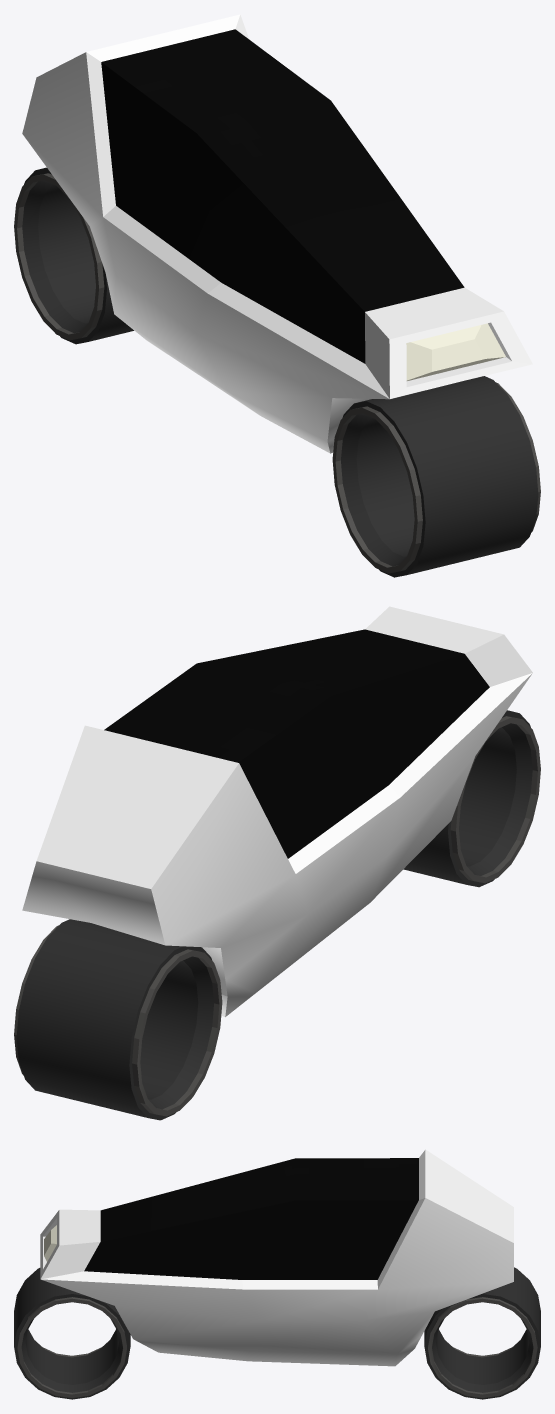
Rendered from Car2_Asset.fbx.
The picture shows the model from 3 angles, top to bottom: view 1: azimuth 30°, elevation 25°; view 2: azimuth 150°, elevation 25°; view 3: azimuth 270°, elevation 25°; orthographic projection. The views are drawn at different scales.
Visible parts, largest first — view 1: Car2_Asset; view 2: Car2_Asset; view 3: Car2_Asset.
Part boxes in pixels (x1,y1,x2,y2): Car2_Asset: [14, 14, 540, 577]; Car2_Asset: [14, 606, 540, 1120]; Car2_Asset: [14, 1149, 540, 1399].
Bounding box in the file's own units: 4.08 × 6.55 × 15.02.
Materials: 1 (1 with a texture image).
